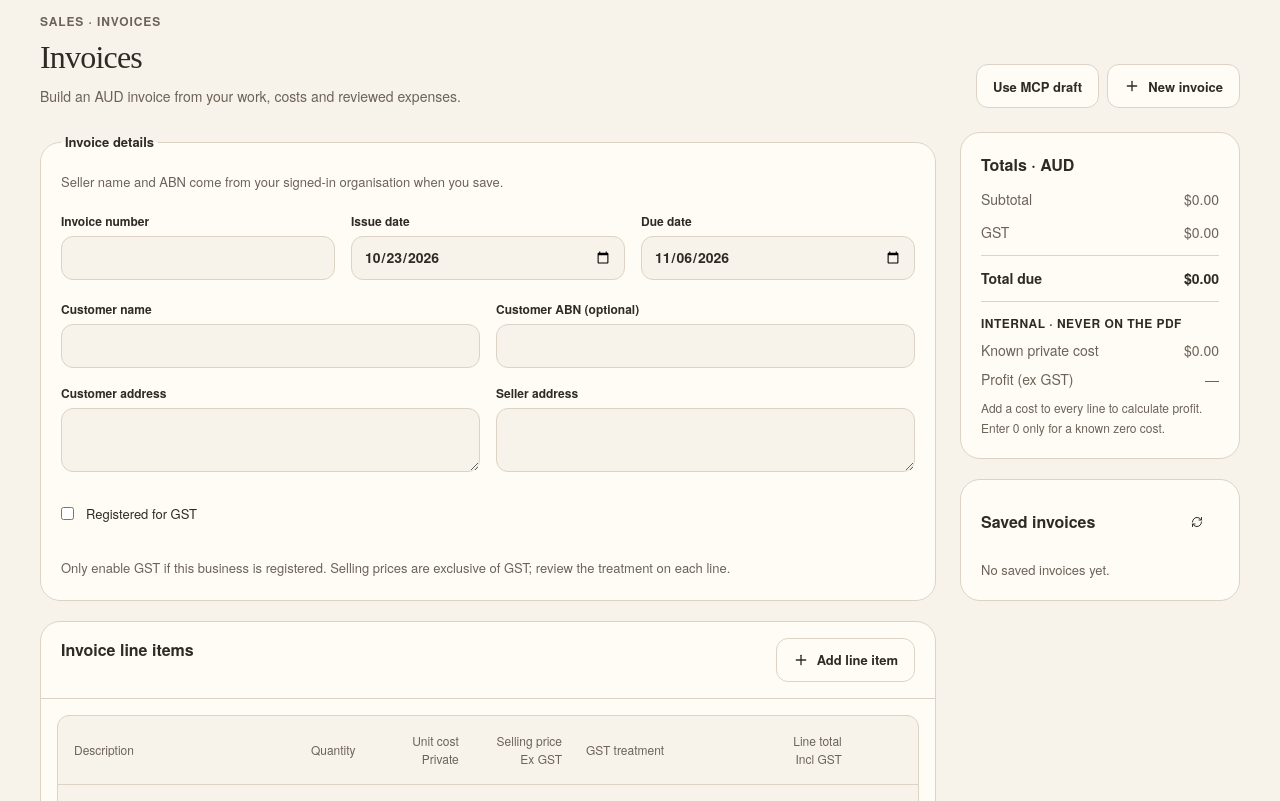
Test: loads an MCP proposal for human editing without saving it
The image size is (1280, 801).
Step 1. Click the button "Use MCP draft" → (1038, 86), box [976,64,1099,108]
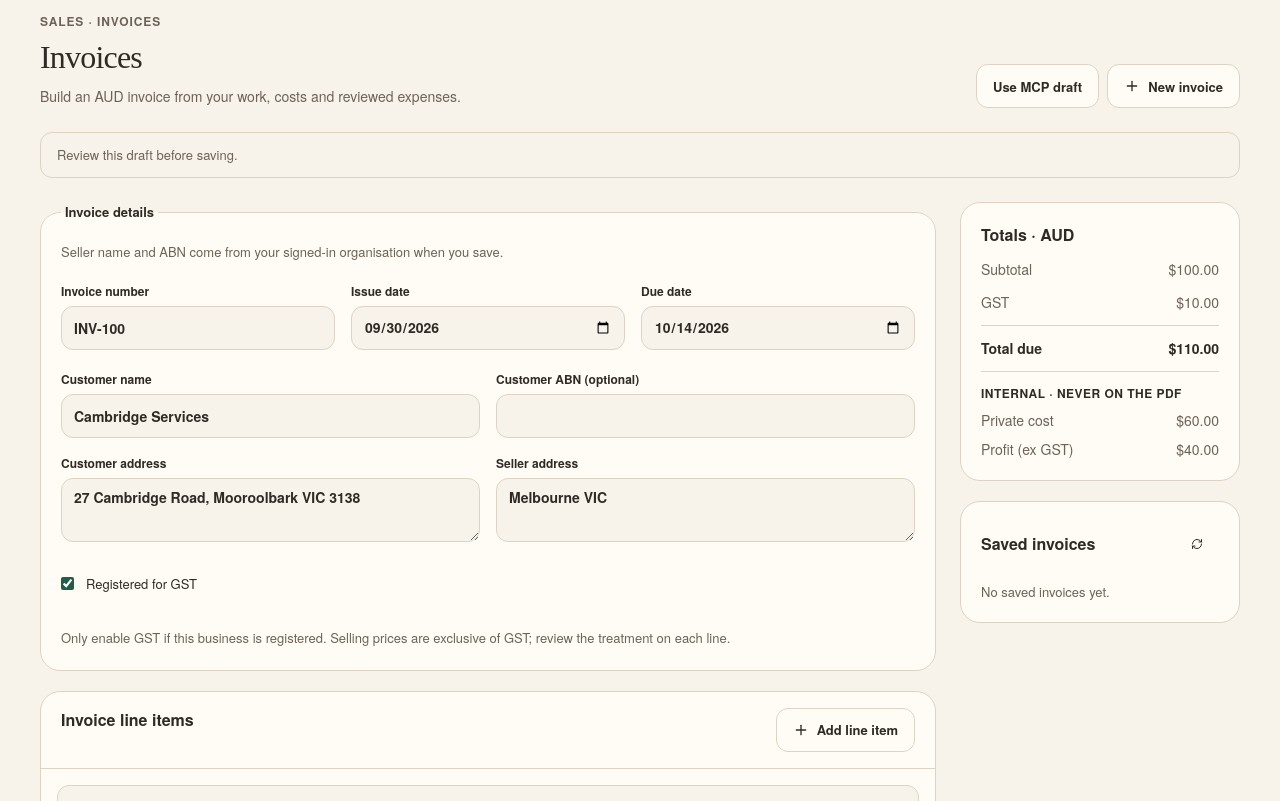
Expected: the field showing "INV-100" is shown, [61,306,335,350]
Expected: the field showing "Cambridge Services" is shown, [61,394,480,438]
Expected: the element with test id "invoice-subtotal" shows "$100.00", [1168,259,1219,279]
